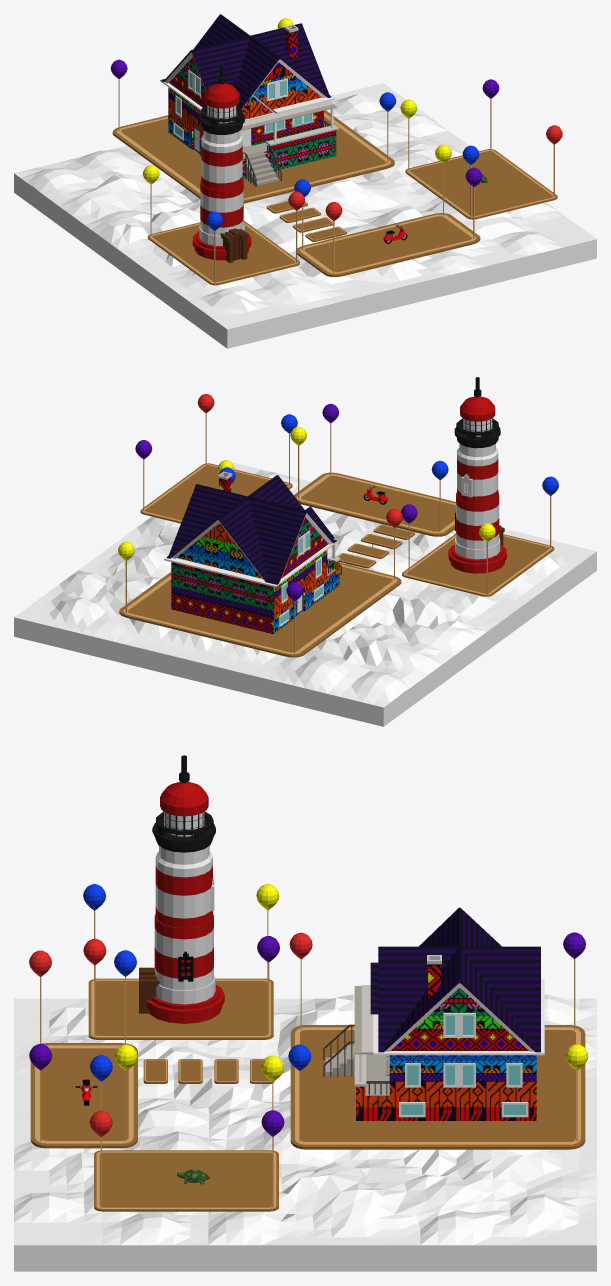
3 renders of one model, top to bottom at view 1: azimuth 30°, elevation 25°; view 2: azimuth 150°, elevation 25°; view 3: azimuth 270°, elevation 25°, orthographic. The views are drawn at different scales.
Visible parts, largest first — view 1: Cube.013, Cube.966, OBJRANDOM_LIGHTHOUSE; view 2: Cube.013, Cube.966, OBJRANDOM_LIGHTHOUSE; view 3: Cube.013, Cube.966, OBJRANDOM_LIGHTHOUSE.
Boxes of the visible parts, bbox=[...] form: Cube.013: bbox=[14, 18, 596, 348]; Cube.966: bbox=[160, 14, 338, 186]; OBJRANDOM_LIGHTHOUSE: bbox=[192, 64, 251, 262]; Cube.013: bbox=[14, 394, 596, 726]; Cube.966: bbox=[164, 471, 341, 634]; OBJRANDOM_LIGHTHOUSE: bbox=[448, 377, 506, 573]; Cube.013: bbox=[14, 884, 596, 1271]; Cube.966: bbox=[323, 907, 544, 1120]; OBJRANDOM_LIGHTHOUSE: bbox=[139, 755, 224, 1023].
Bounding box in the file's own units: 4000 × 2404 × 4000.
43 materials, 5 textured.
